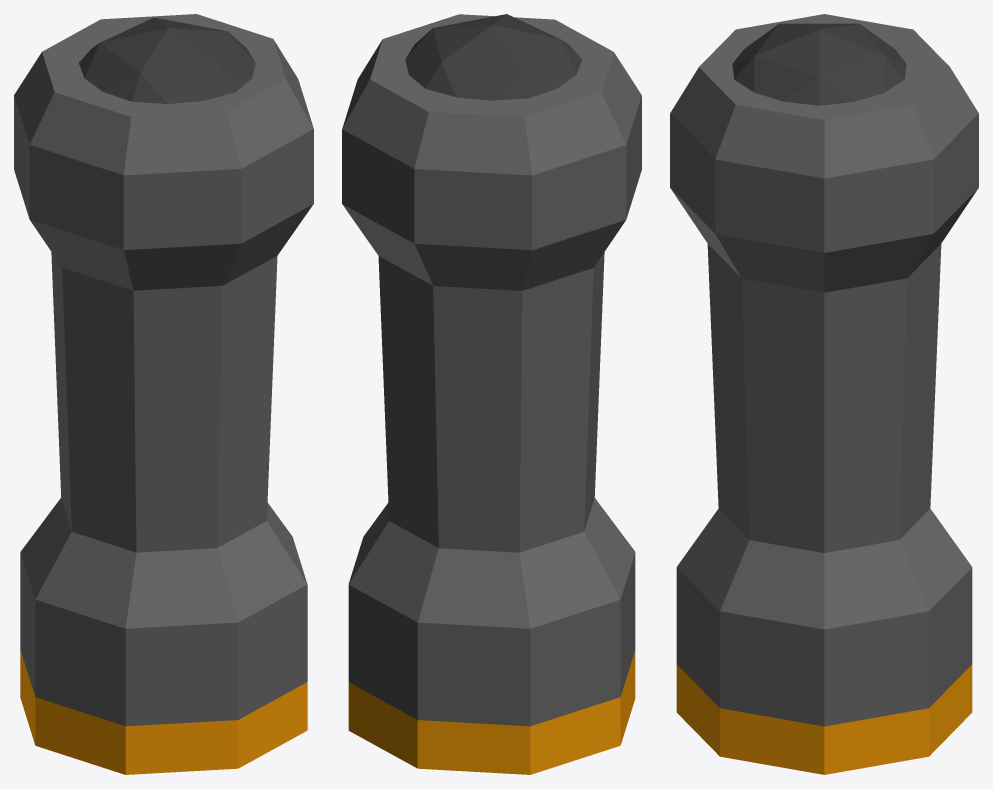
The model's file is props.fbx.
The picture shows the model from 3 angles, left to right: view 1: azimuth 30°, elevation 25°; view 2: azimuth 150°, elevation 25°; view 3: azimuth 270°, elevation 25°; orthographic projection.
Parts seen in each view (by area): view 1: Cannon, Cannon_02, Cannon_ball; view 2: Cannon, Cannon_02, Cannon_ball; view 3: Cannon, Cannon_02, Cannon_ball.
Part boxes in pixels (x1=…): Cannon: x1=14, y1=14, x2=313, y2=726; Cannon_02: x1=20, y1=650, x2=307, y2=774; Cannon_ball: x1=79, y1=17, x2=255, y2=103; Cannon: x1=342, y1=14, x2=641, y2=726; Cannon_02: x1=348, y1=650, x2=635, y2=774; Cannon_ball: x1=405, y1=14, x2=581, y2=100; Cannon: x1=670, y1=14, x2=978, y2=726; Cannon_02: x1=676, y1=664, x2=972, y2=774; Cannon_ball: x1=732, y1=23, x2=906, y2=105.
Size of the model in its own units: 6.89 by 16.84 by 6.89.
1 material, 1 textured.
